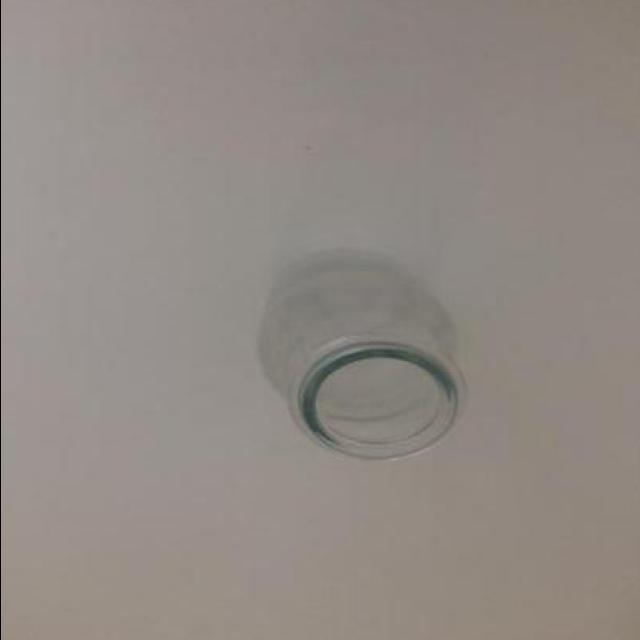kaca: (252, 251, 458, 462)
